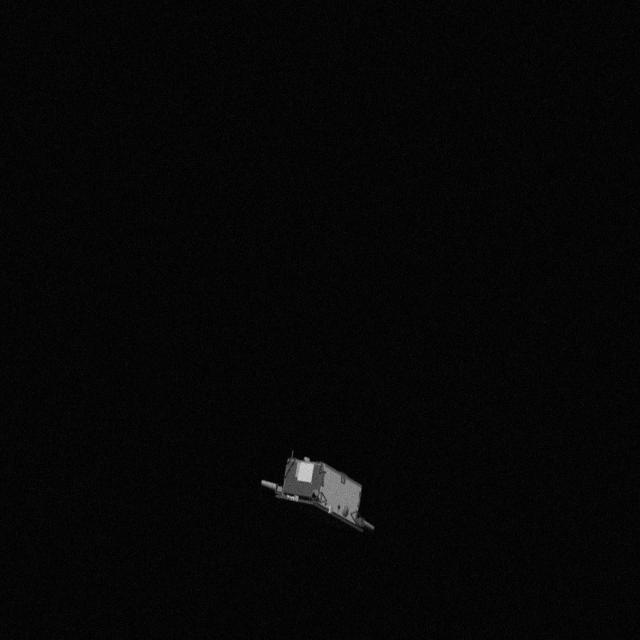medium_debris: (262, 454, 386, 534)
